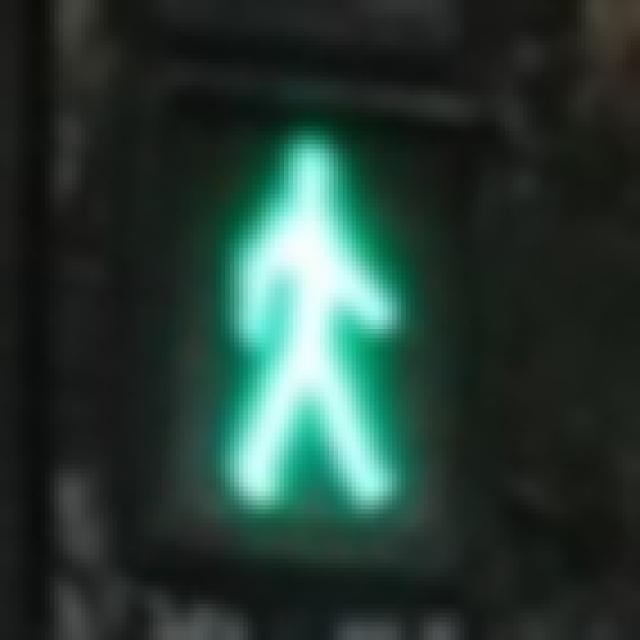green_light: (158, 99, 464, 527)
